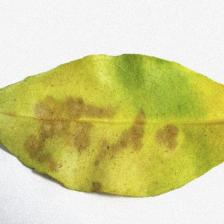canker: (18, 92, 186, 181)
